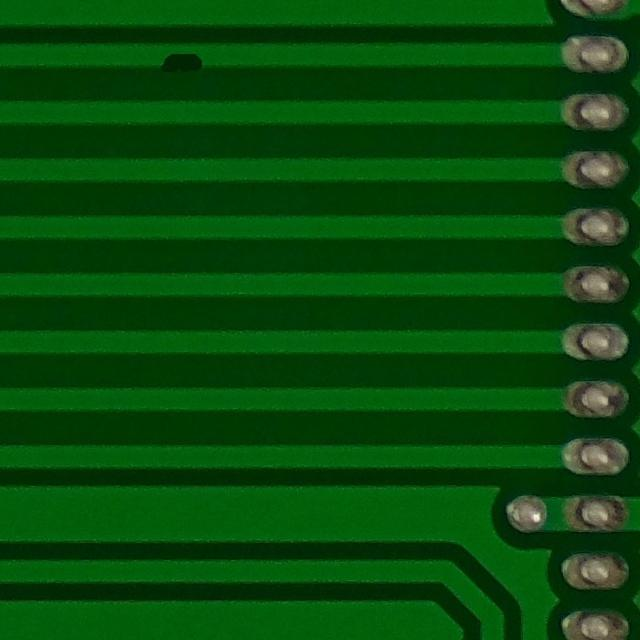mouse_bite: (143, 33, 222, 81)
